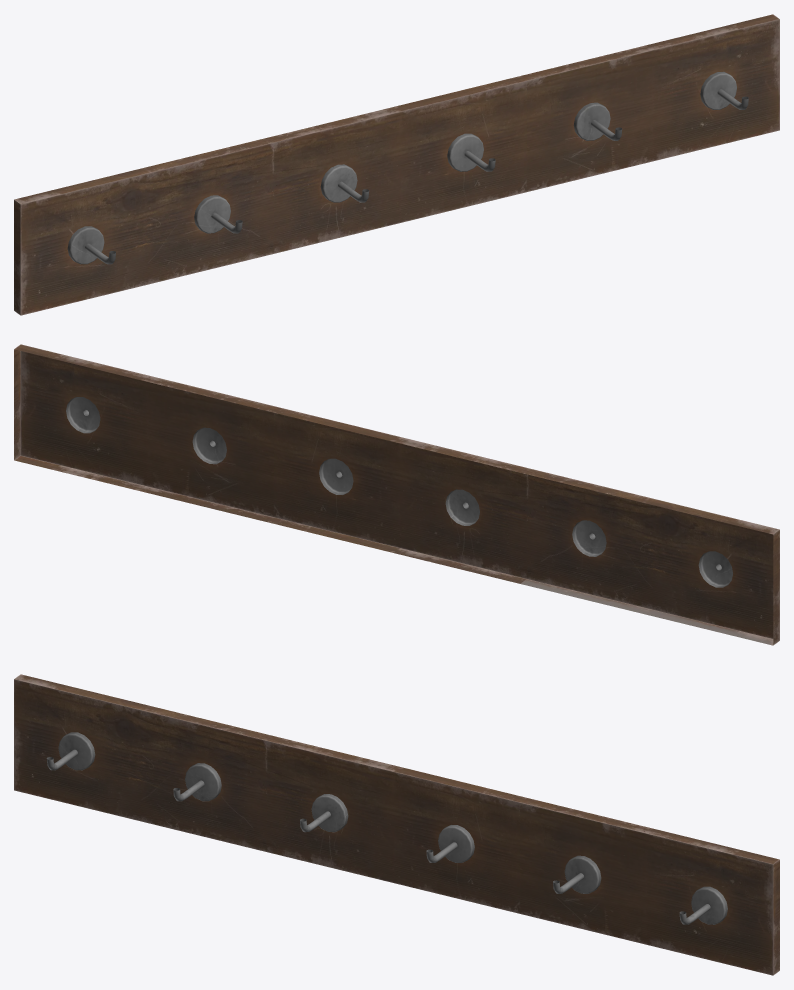
The model's file is coat_rack_wooden_hook_sousinho.glb.
3 renders of one model, top to bottom at view 1: azimuth 30°, elevation 25°; view 2: azimuth 150°, elevation 25°; view 3: azimuth 330°, elevation 25°, orthographic.
Parts seen in each view (by area): view 1: Object_4; view 2: Object_4; view 3: Object_4.
Part boxes in pixels (x1,y1,x2,y2): Object_4: (14, 14, 779, 315); Object_4: (14, 344, 779, 645); Object_4: (14, 674, 779, 975).
Size of the model in its own units: 1.44 by 0.2017 by 0.1199.
Materials: 1 (1 with a texture image).
